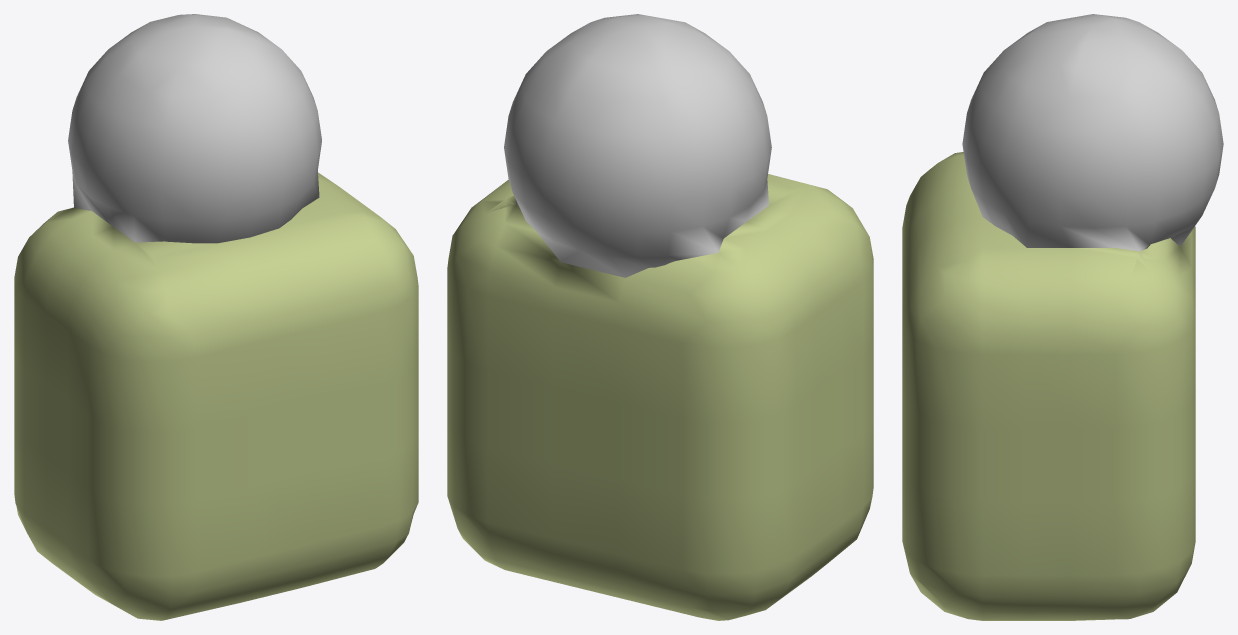
Rendered from roughHuman.fbx.
3 renders of one model, left to right at view 1: azimuth 30°, elevation 25°; view 2: azimuth 150°, elevation 25°; view 3: azimuth 270°, elevation 25°, orthographic. The views are drawn at different scales.
Parts seen in each view (by area): view 1: Sphere; view 2: Sphere; view 3: Sphere.
Boxes of the visible parts, x1=… form: Sphere: x1=14, y1=14, x2=418, y2=620; Sphere: x1=447, y1=14, x2=873, y2=620; Sphere: x1=902, y1=14, x2=1223, y2=620.
Bounding box in the file's own units: 189 × 298 × 160.
